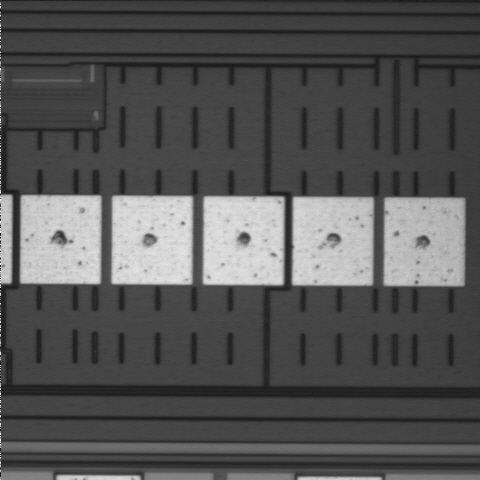pad: (203, 197, 284, 285), (21, 196, 101, 284), (112, 196, 192, 284), (293, 197, 373, 285), (384, 198, 463, 285)
